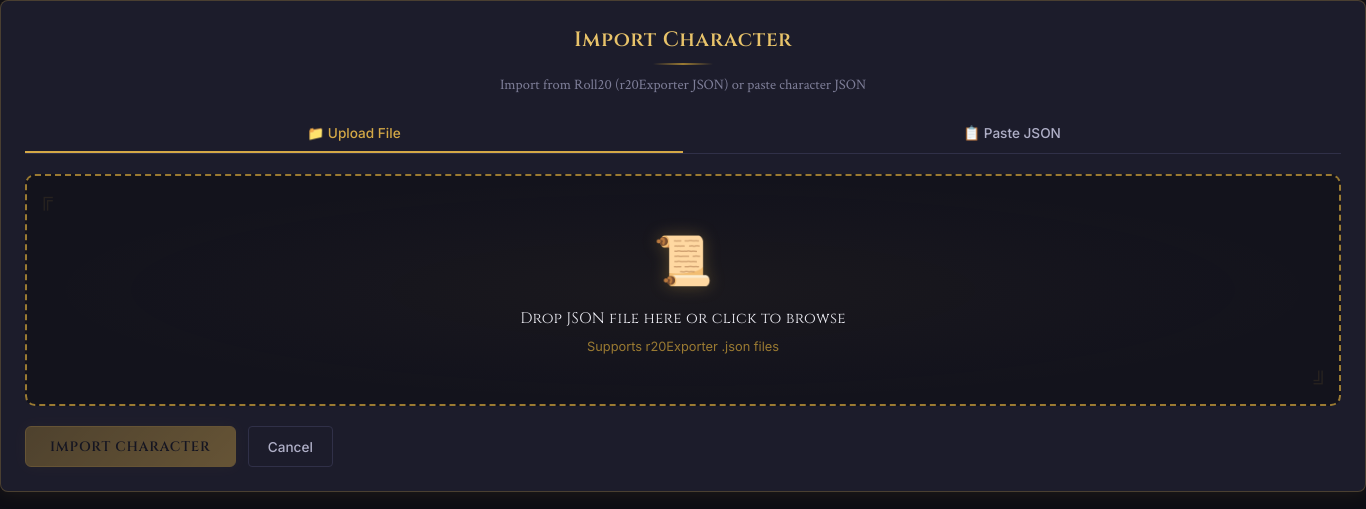
CharacterImport › shows textarea on paste tab
Step 1. Click the tab "📋 Paste JSON" → x=1012, y=134, box [683,116,1341,153]
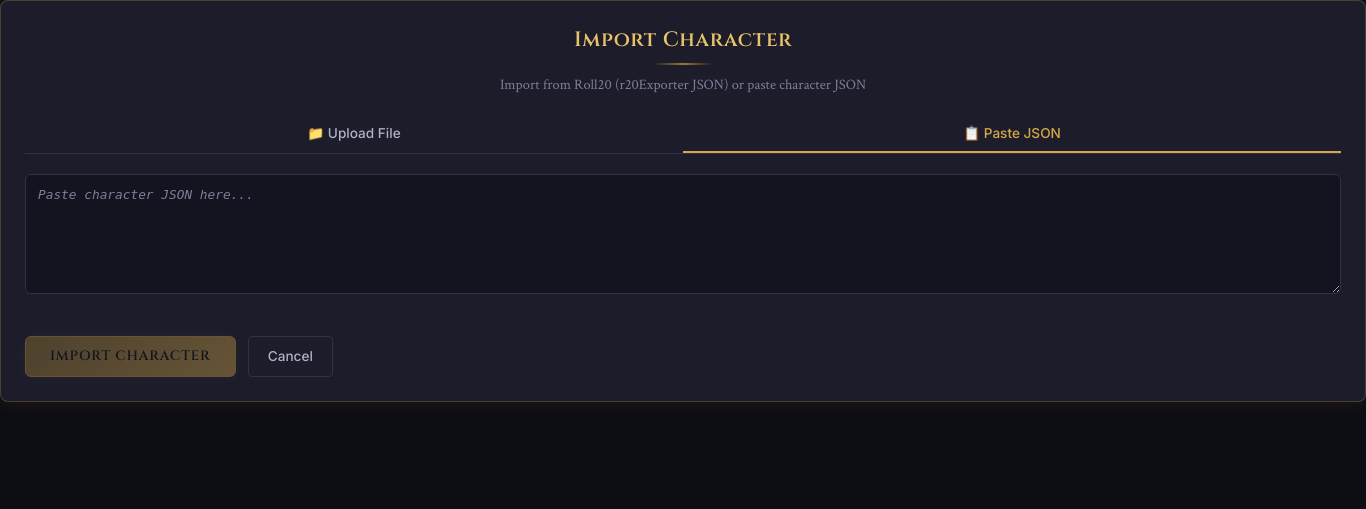
Now the text box with test id "json-input" is shown, box [25,174,1341,294]
